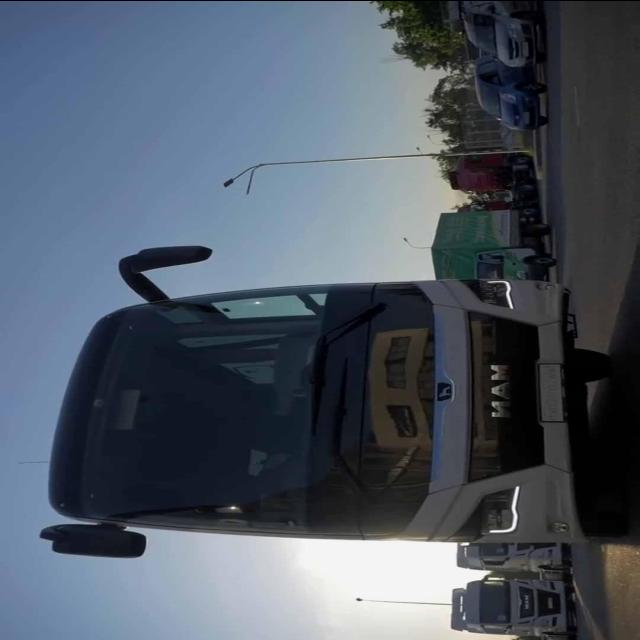bus: (36, 244, 606, 572)
